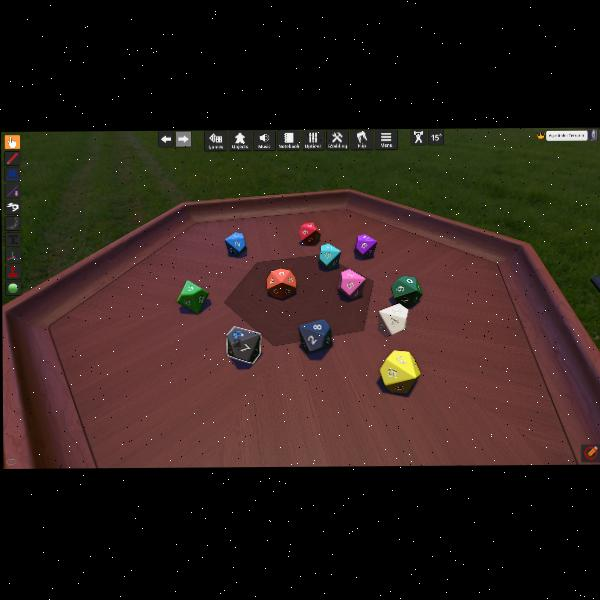d10: (380, 348, 420, 392), (225, 325, 262, 363), (178, 279, 211, 314), (298, 319, 331, 353), (393, 275, 423, 309), (267, 267, 297, 299), (378, 303, 407, 335), (336, 266, 362, 297), (225, 231, 247, 257), (354, 233, 376, 258), (318, 242, 339, 267), (300, 222, 320, 244)
